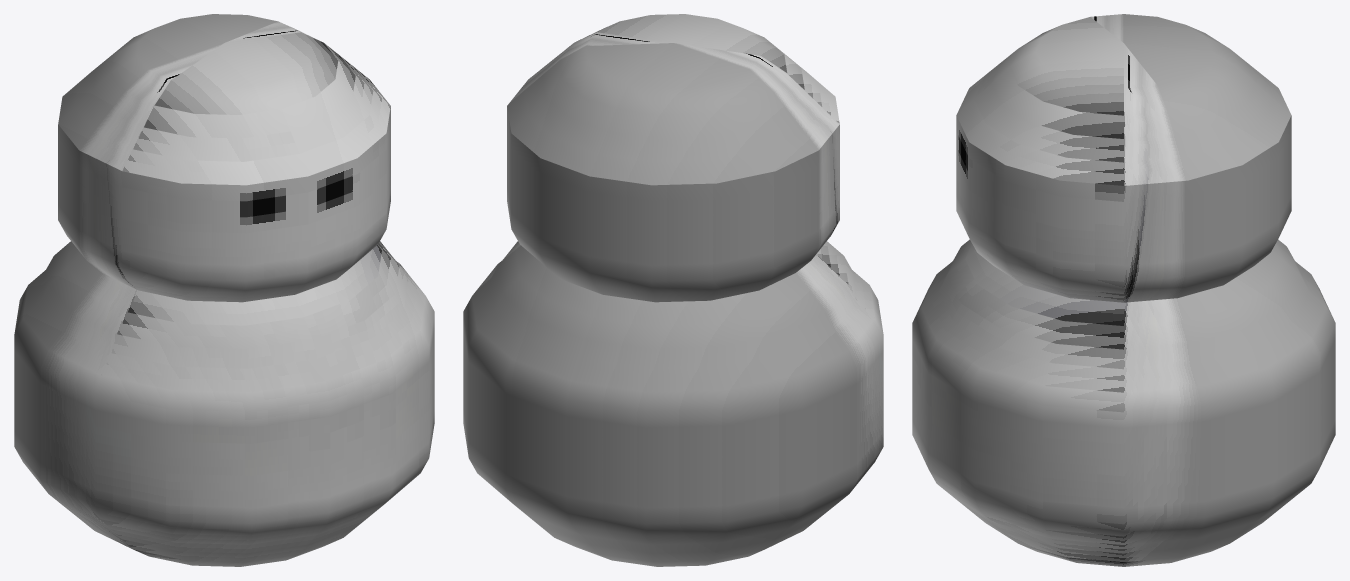
Rendered from Building_Snowman__C.obj.
3 views of the same model, side by side, from view 1: azimuth 30°, elevation 25°; view 2: azimuth 150°, elevation 25°; view 3: azimuth 270°, elevation 25° (orthographic).
Parts seen in each view (by area): view 1: Body; view 2: Body; view 3: Body.
Part boxes in pixels (bbox=[...]): Body: bbox=[14, 14, 434, 566]; Body: bbox=[463, 14, 883, 566]; Body: bbox=[912, 14, 1335, 566].
Bounding box in the file's own units: 0.7742 × 0.9839 × 0.7742.
1 material, 1 textured.
